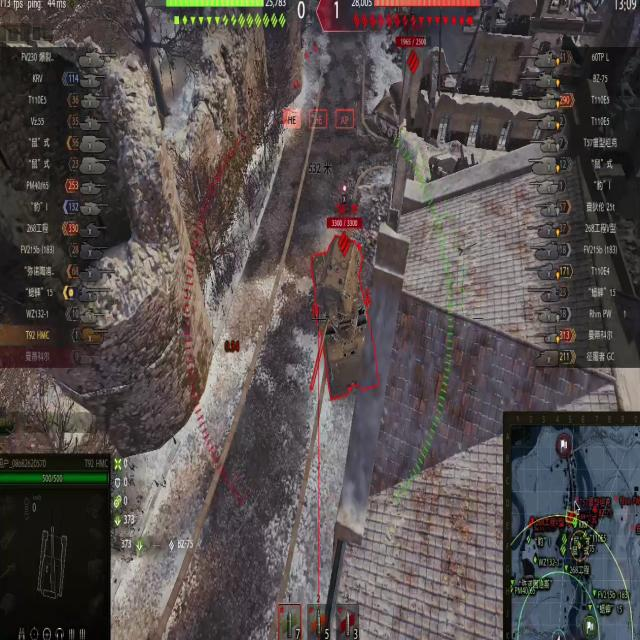tank: (298, 206, 382, 404)
